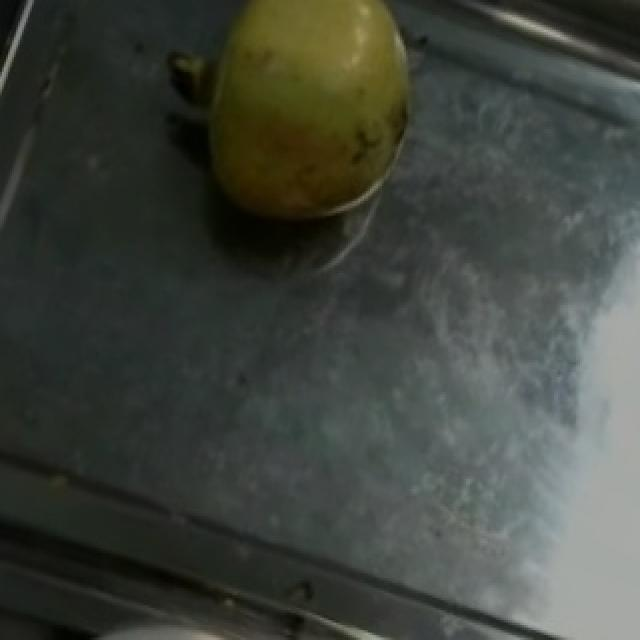fruit: (168, 0, 450, 256)
